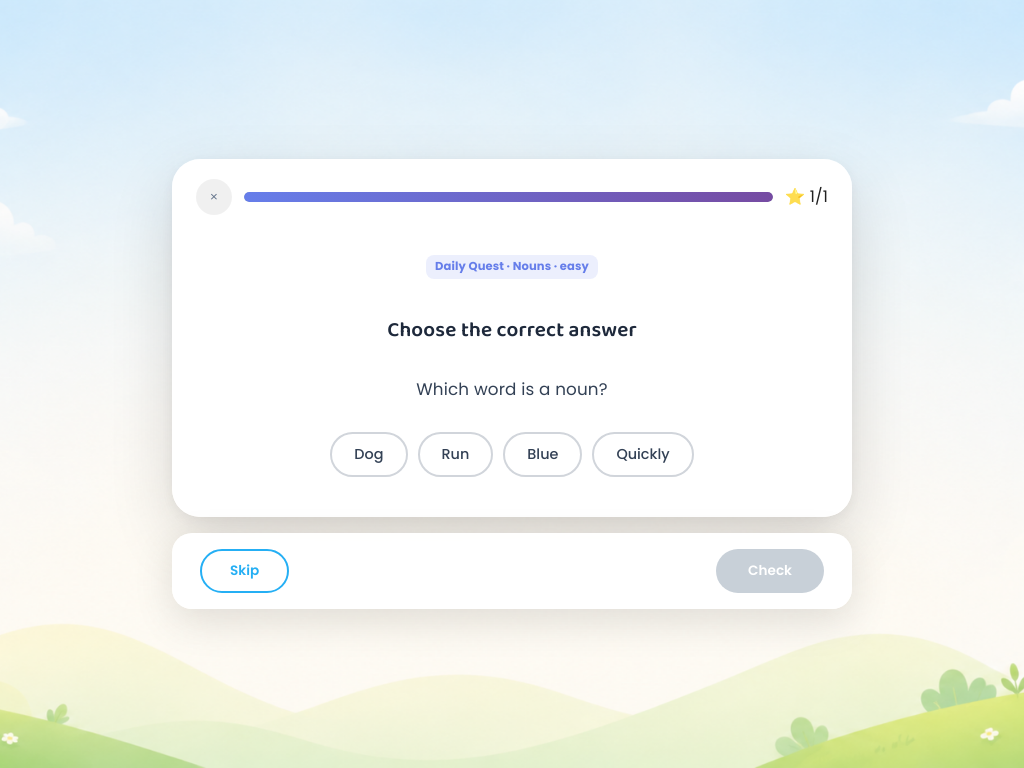
Scenario: DailyQuestPage › Check button becomes enabled after selecting an answer
This screenshot has width=1024, height=768.
Click the button "Dog" at (369, 454), box [330,432,408,477]
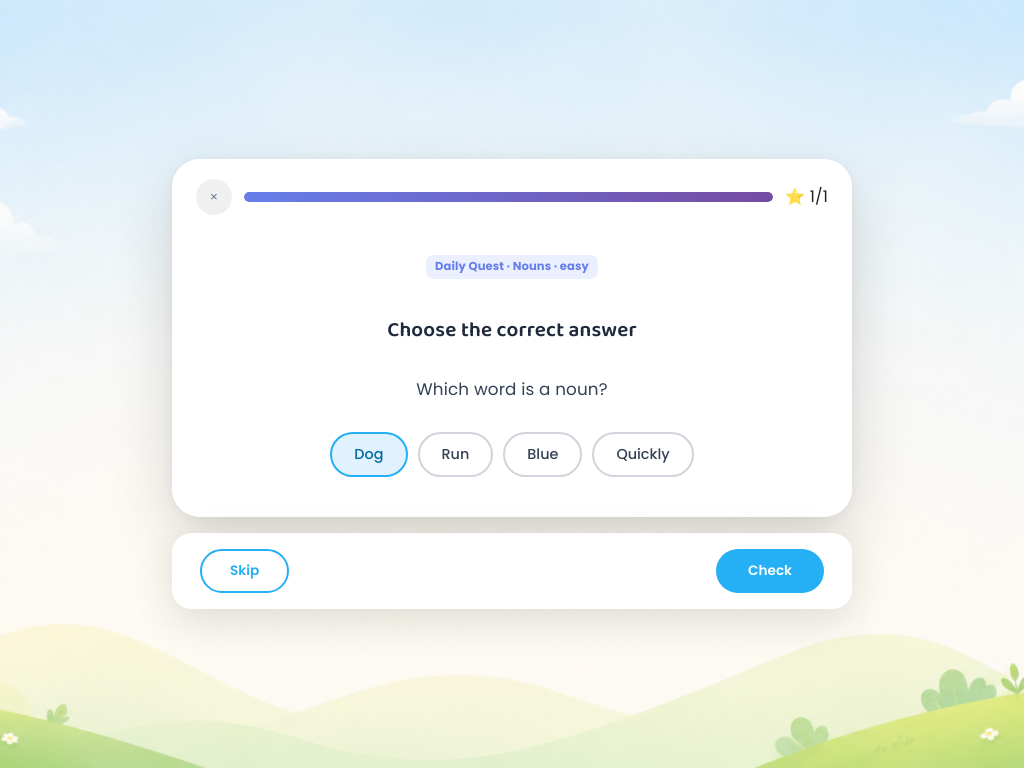
expect the button "Check" is enabled: met, box [716,549,824,593]
